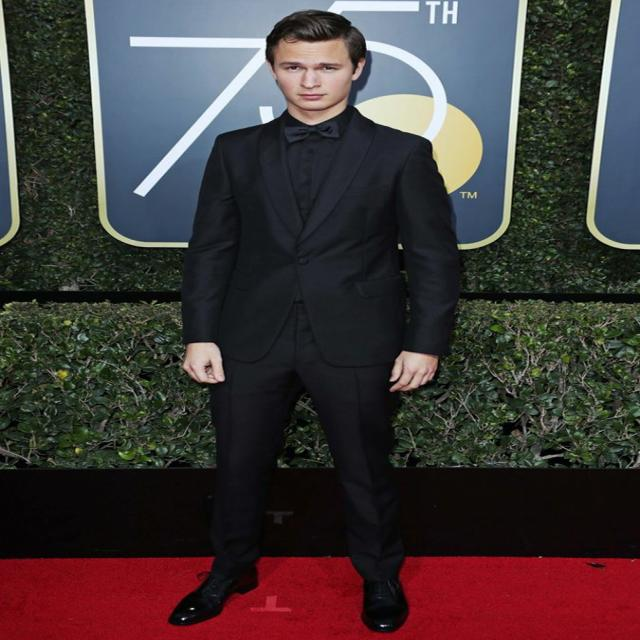male-dress: (169, 127, 464, 591)
